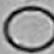no answer: (4, 5, 54, 52)
